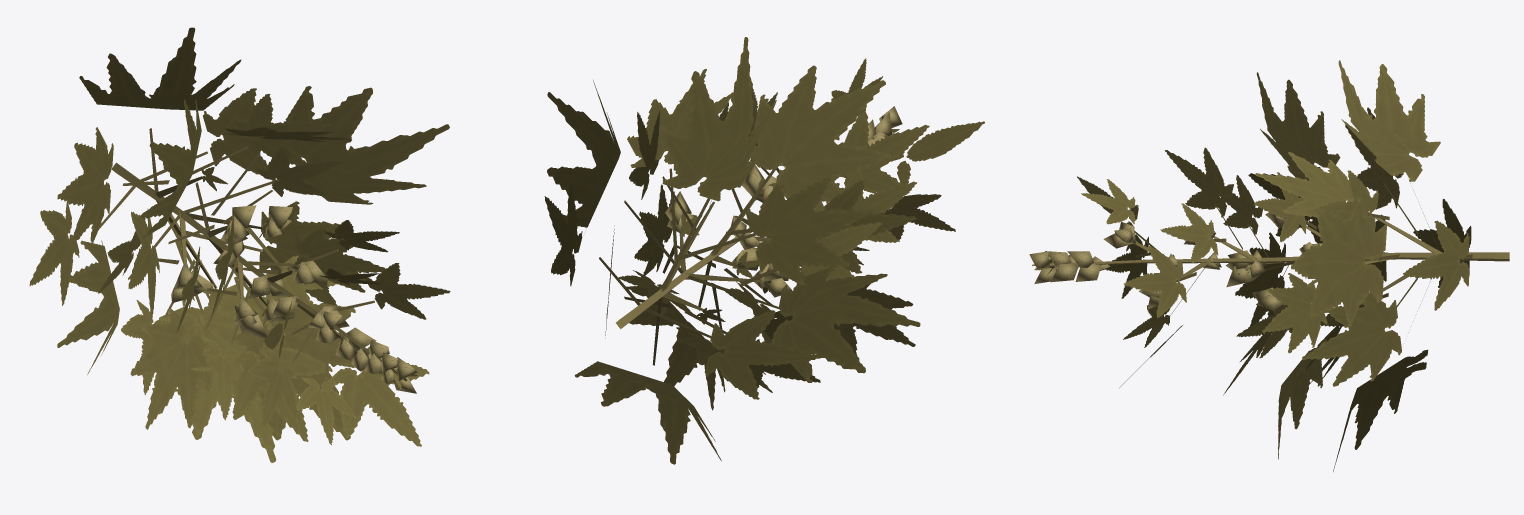
Rendered from p_male_hybrid_flowering_c2_cards.obj.
3 views of the same model, side by side, from view 1: azimuth 30°, elevation 25°; view 2: azimuth 150°, elevation 25°; view 3: azimuth 270°, elevation 25° (orthographic). The views are drawn at different scales.
Bounding box in the file's own units: 1.53 × 1.65 × 1.74.
1 material, 1 textured.
